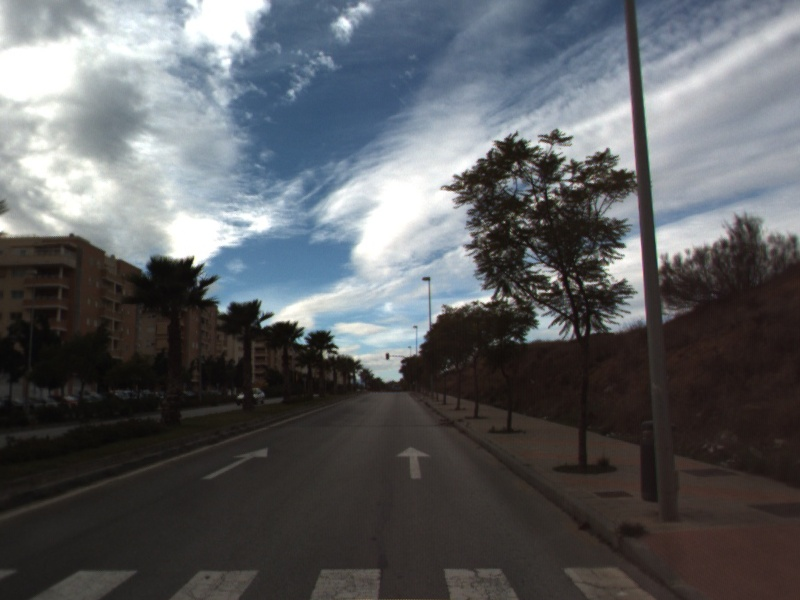STRAIGHT: (200, 445, 270, 481), (394, 444, 433, 481)
